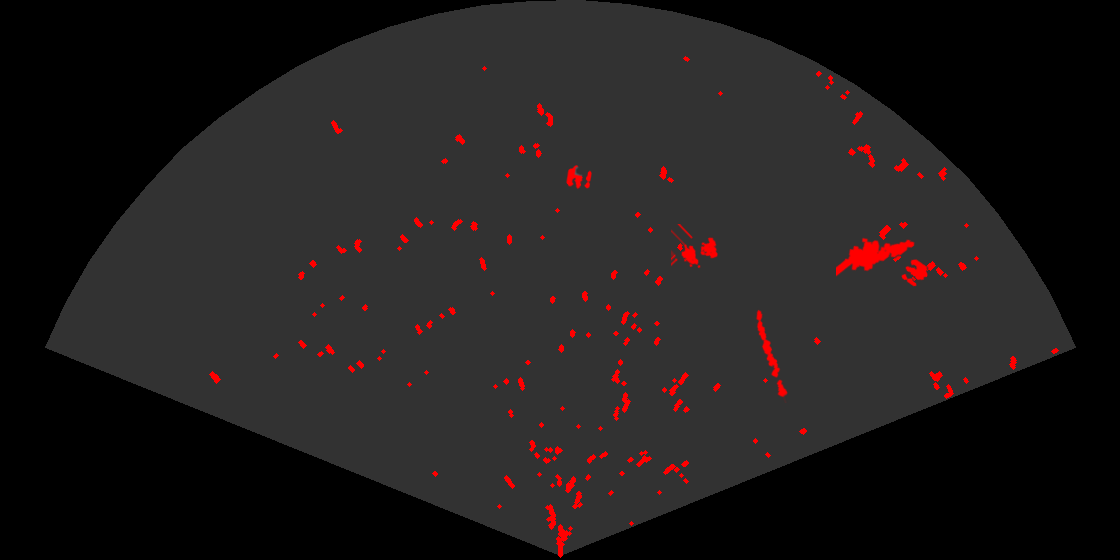ball: (900, 258, 929, 288), (565, 164, 593, 191)
cage: (671, 224, 720, 270)
chain: (754, 308, 789, 403)
frogman: (836, 236, 916, 278)
